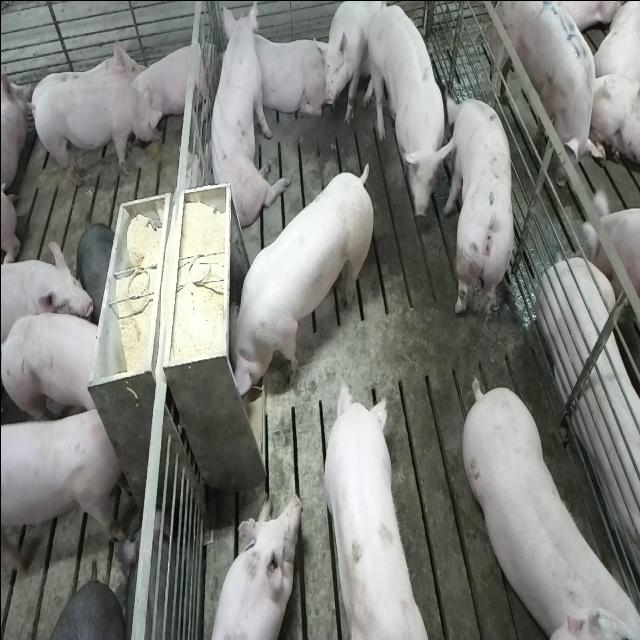Feeding: (219, 162, 369, 402)
Sitting: (203, 4, 284, 229), (321, 1, 384, 129)
Standing: (456, 374, 634, 636), (320, 387, 442, 640), (358, 4, 451, 248), (483, 0, 602, 189), (2, 397, 122, 572), (442, 89, 516, 320), (29, 77, 163, 192), (0, 238, 91, 390), (0, 312, 100, 419)
Sternal_lying: (540, 230, 640, 586), (206, 491, 301, 640), (246, 29, 328, 123), (133, 36, 211, 132)
